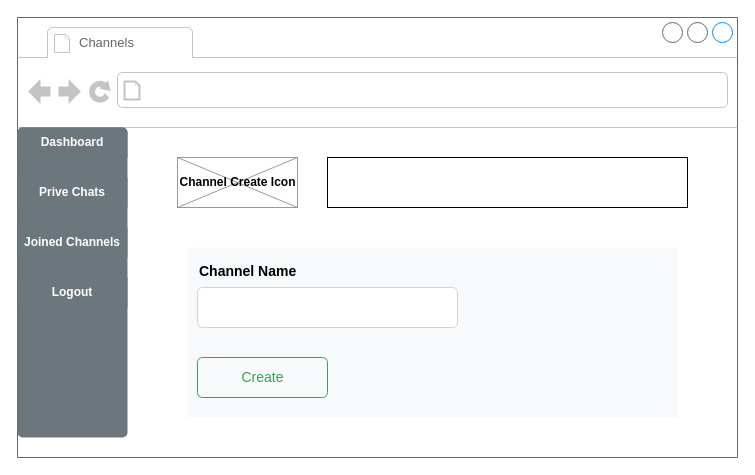
Some shapes in this 755 by 475 pixel diagram are drawn without their labels. The centre of each missing label's shape, as x and y in pixels:
"Create Channel Title" belongs at [507,182].
"https://www.messenger.blahblah.co.za/Channels/Create" belongs at [327,90].
